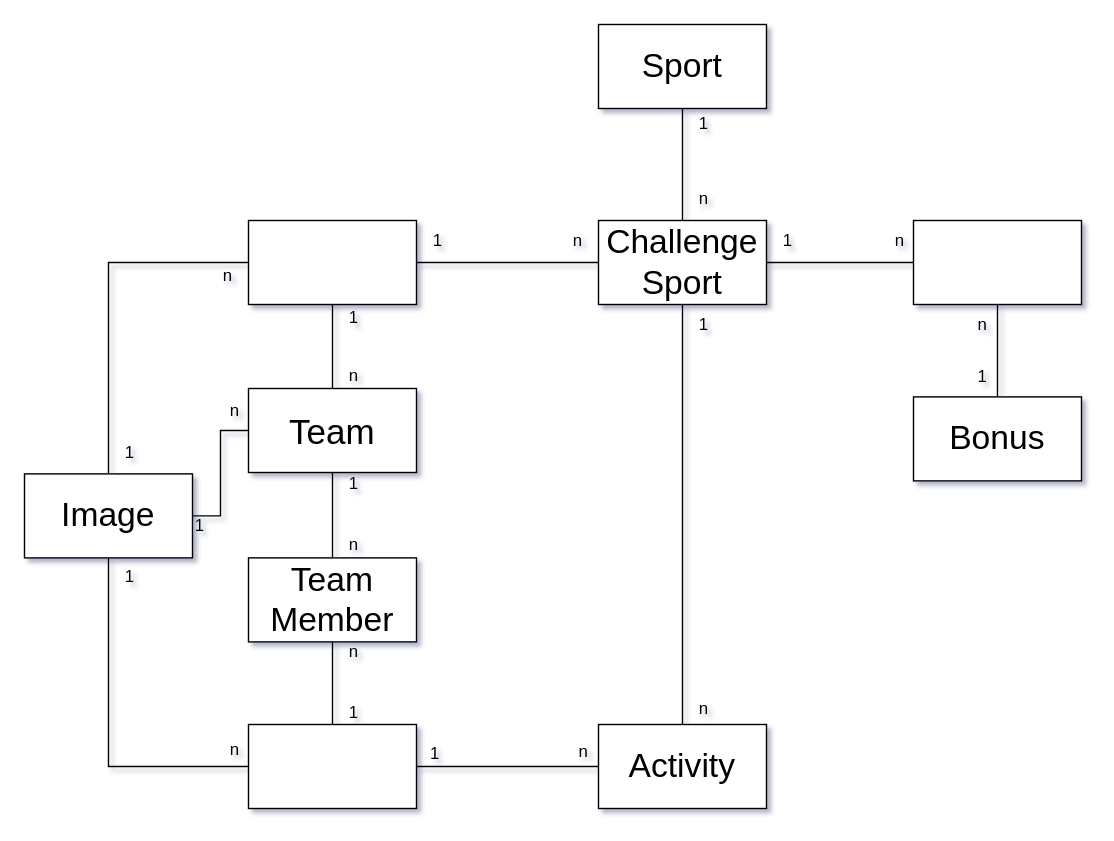
Some shapes in this 1114 by 841 pixel diagram are drawn without their labels. Each missing label, with the centre of its shape:
Challenge: the point at 331,261
Challenge Sport Bonus: the point at 997,261
Member: the point at 331,765
